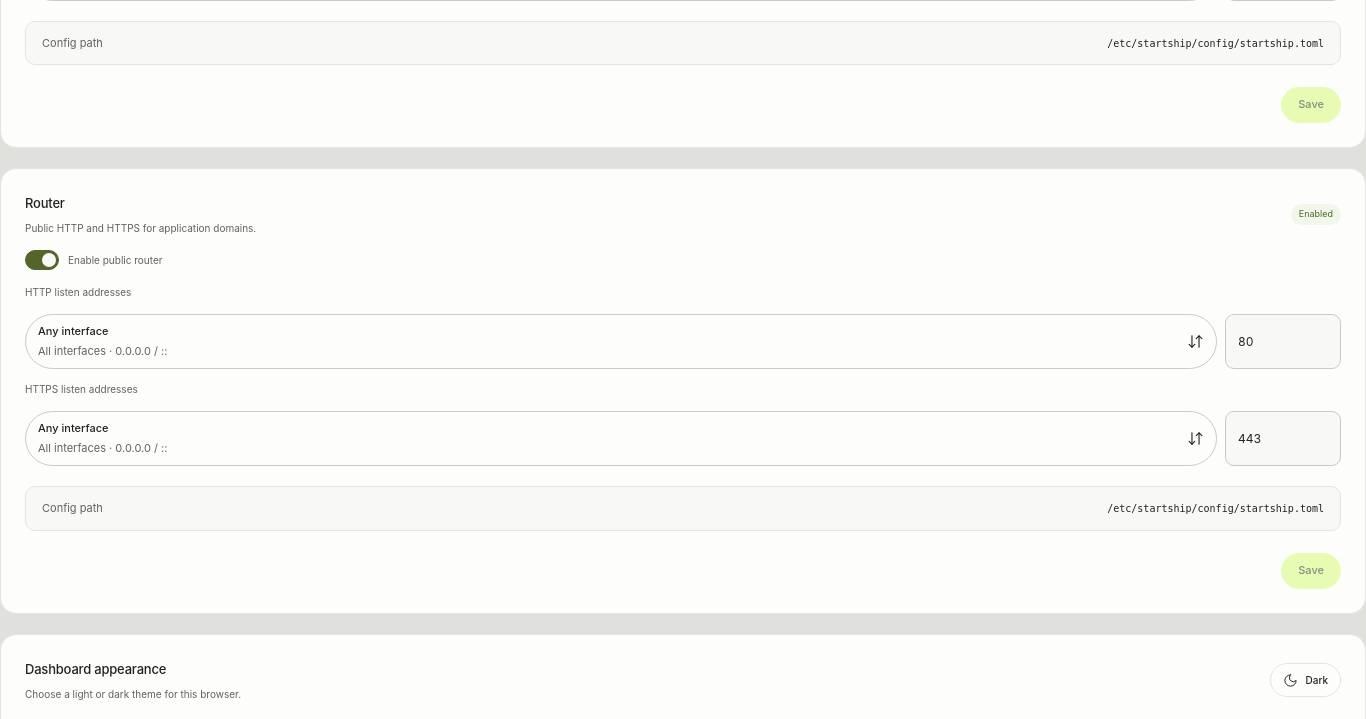
it: node router settings › uses live snapshots rather than refetching and keeps an in-progress edit
The image size is (1366, 719).
(page scrolled)
Type "8081" into the field named "HTTP listen addresses port" at point(1283, 342), box [1225,314,1341,369]
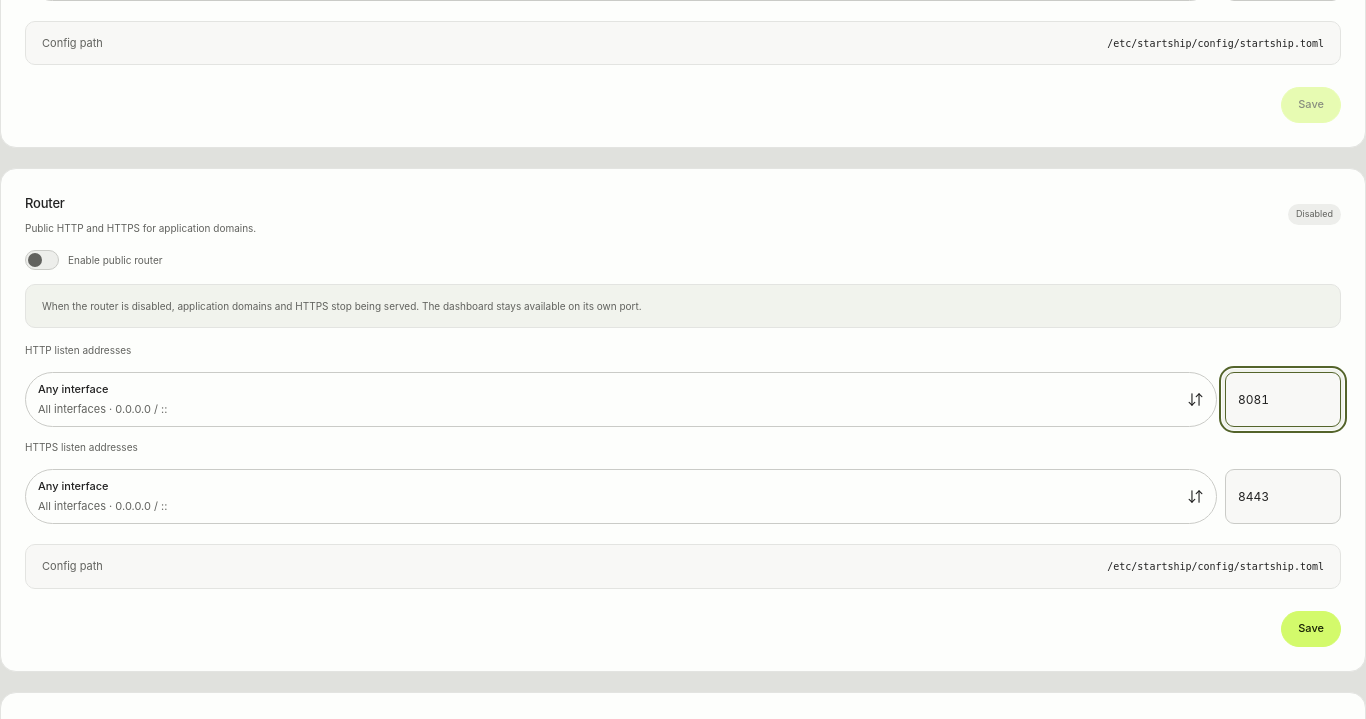
Now the text "Disabled" is shown, box [1288,204,1341,225]
Now the field named "HTTPS listen addresses port" holds "8443", box [1225,469,1341,524]
